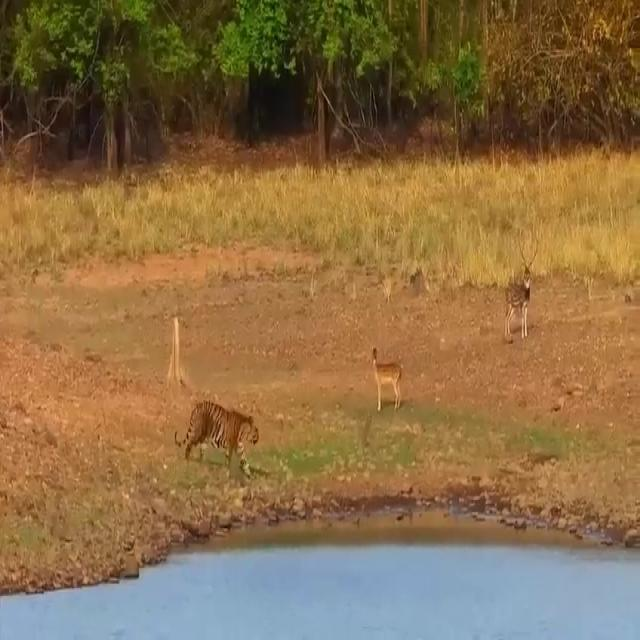tiger: (175, 398, 259, 479)
